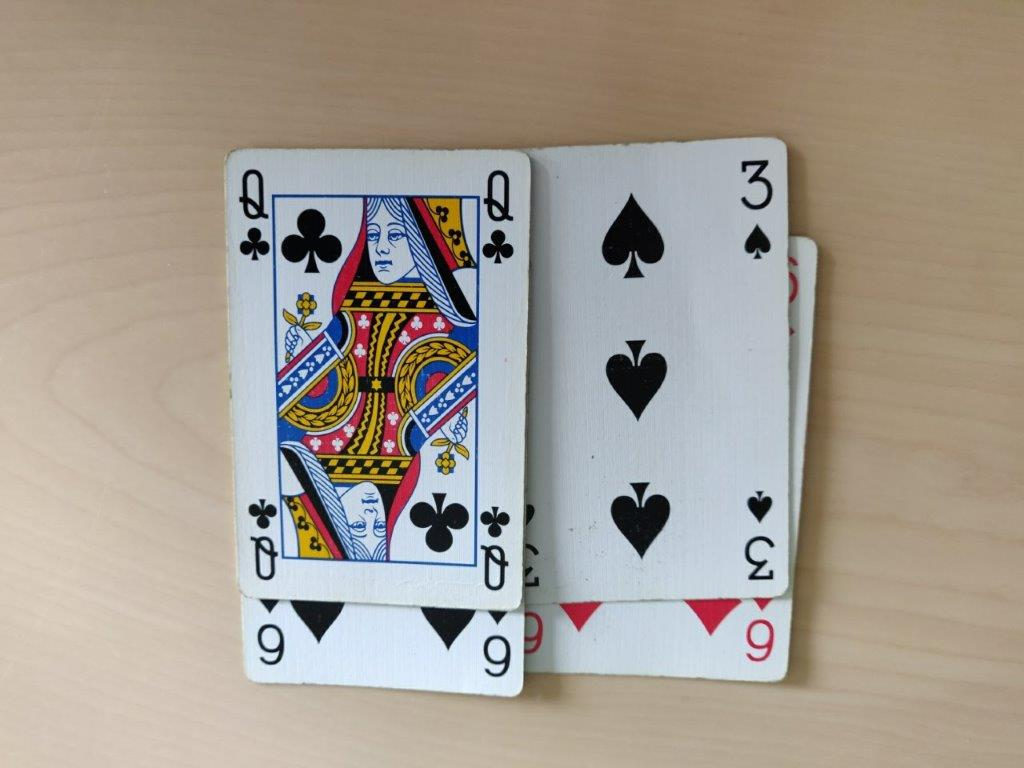3S: (737, 139, 779, 264)
QC: (232, 158, 276, 270), (480, 163, 524, 275)
